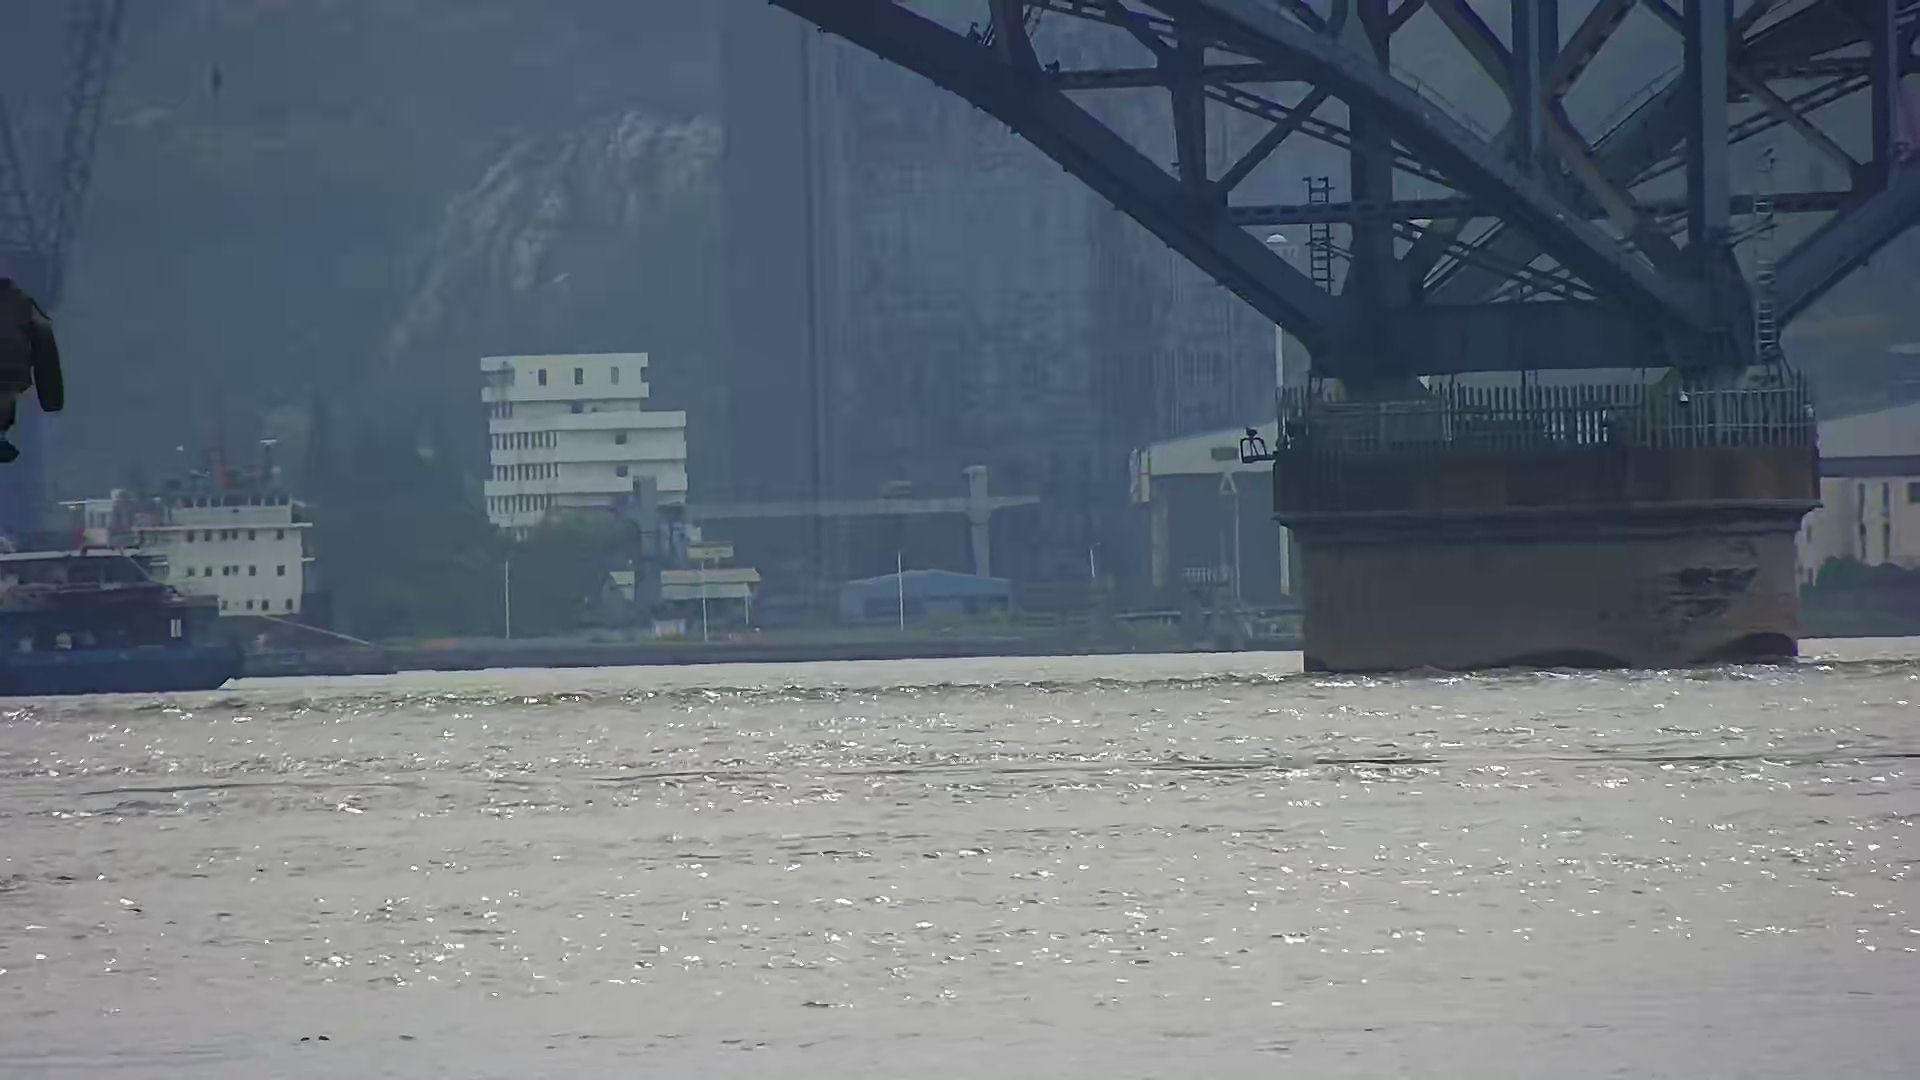bridge: (783, 1, 1920, 680)
ship: (1, 510, 291, 699)
